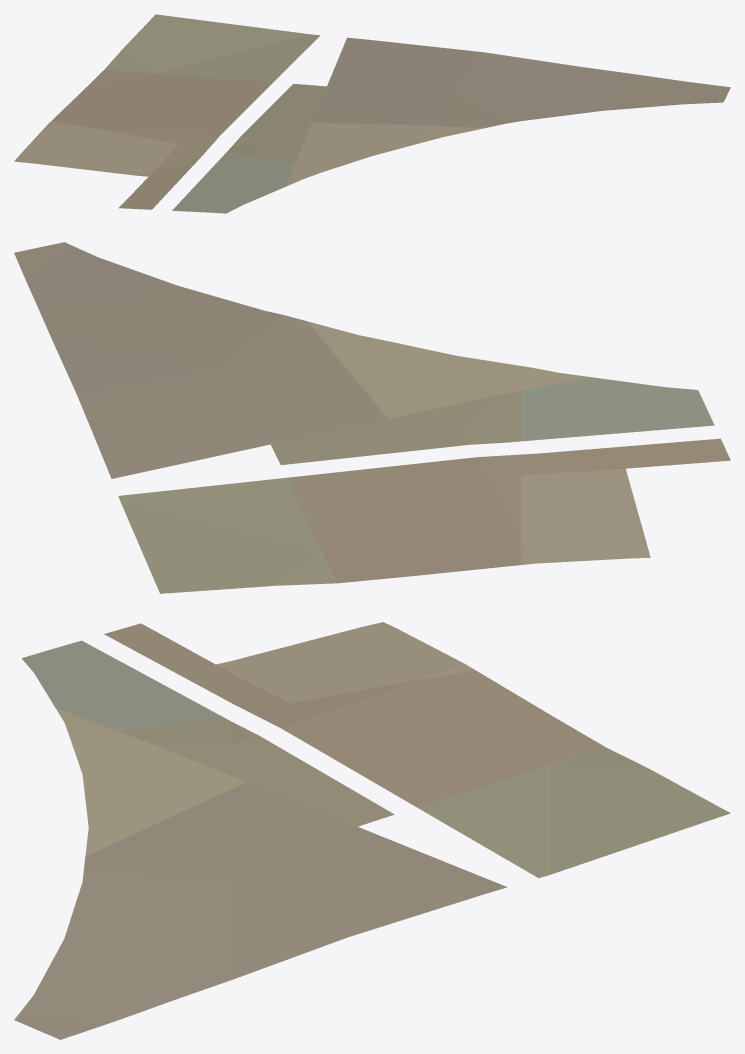
The model's file is farm_-19_-25_soil.glb.
The picture shows the model from 3 angles, top to bottom: view 1: azimuth 30°, elevation 25°; view 2: azimuth 150°, elevation 25°; view 3: azimuth 270°, elevation 25°; orthographic projection. The views are drawn at different scales.
Visible parts, largest first — view 1: geometry_0; view 2: geometry_0; view 3: geometry_0.
Part boxes in pixels (box(x1,y1,x2,y2)): geometry_0: box(14, 14, 730, 213); geometry_0: box(14, 242, 730, 593); geometry_0: box(14, 622, 730, 1039).
Size of the model in its own units: 256 by 9.81 by 181.
